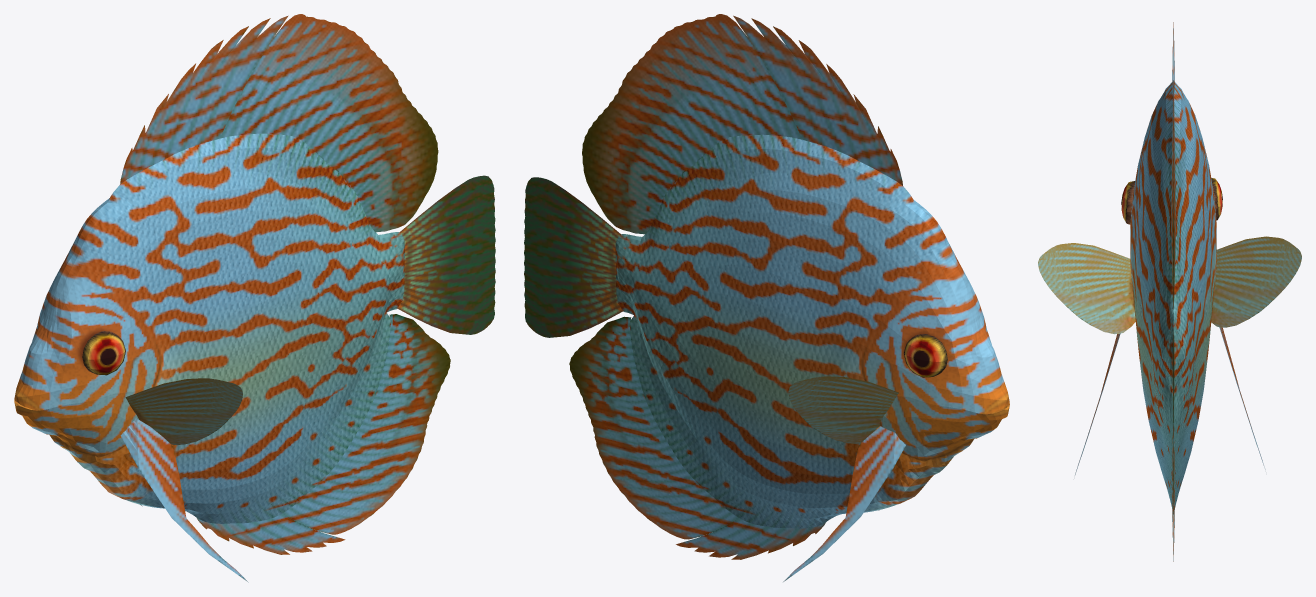
The model's file is IllegalFish.fbx.
The picture shows the model from 3 angles, left to right: view 1: azimuth 30°, elevation 25°; view 2: azimuth 150°, elevation 25°; view 3: azimuth 270°, elevation 25°; orthographic projection. The views are drawn at different scales.
Visible parts, largest first — view 1: object13; view 2: object13; view 3: object13.
Boxes of the visible parts, x1,y1,x2,y2 form: object13: (14,14,495,582); object13: (524,14,1009,581); object13: (1038,22,1301,561).
Bounding box in the file's own units: 3.57 × 3.86 × 1.76.
1 material, 1 textured.
